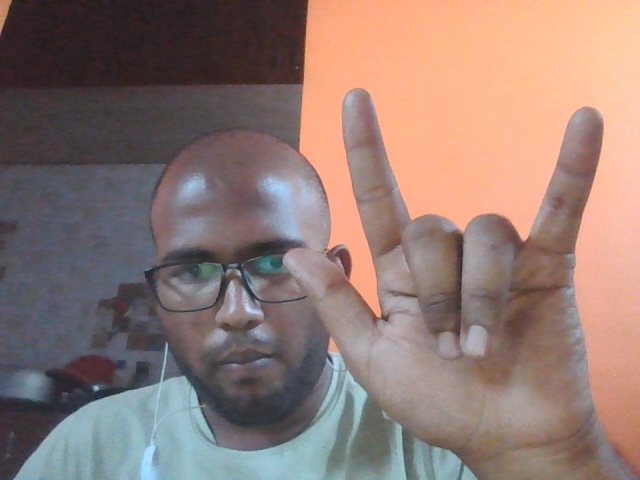iloveyou: (275, 49, 627, 480)
